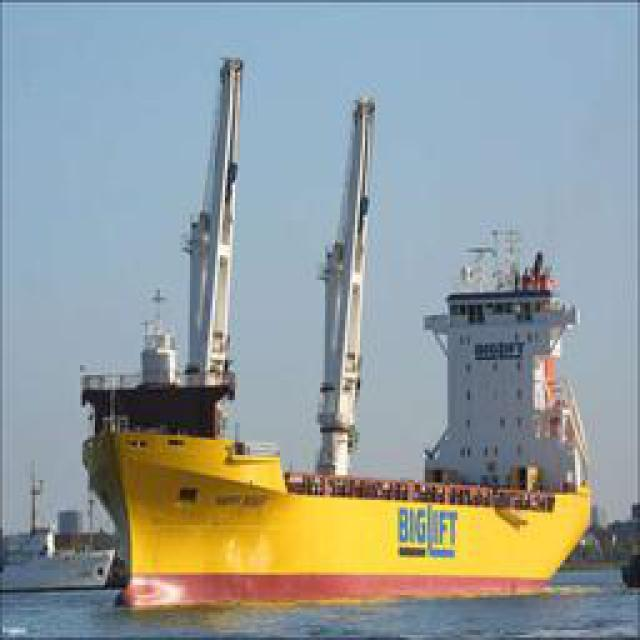Ship: (66, 41, 619, 609)
